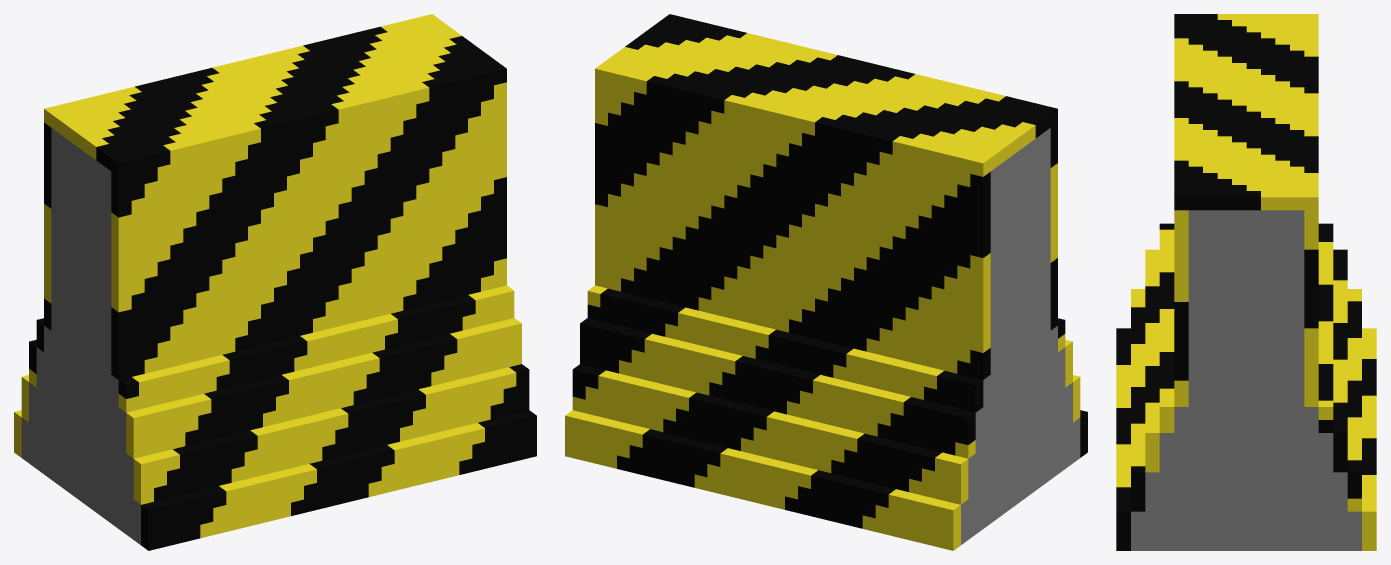
File: Barriere.obj
The picture shows the model from 3 angles, left to right: view 1: azimuth 30°, elevation 25°; view 2: azimuth 150°, elevation 25°; view 3: azimuth 270°, elevation 25°; orthographic projection. The views are drawn at different scales.
Bounding box in the file's own units: 3 × 2.7 × 1.8.
1 material, 1 textured.
